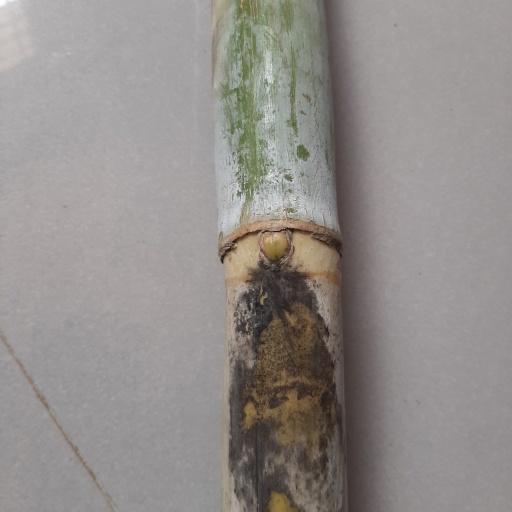Bud: (258, 230, 293, 266)
